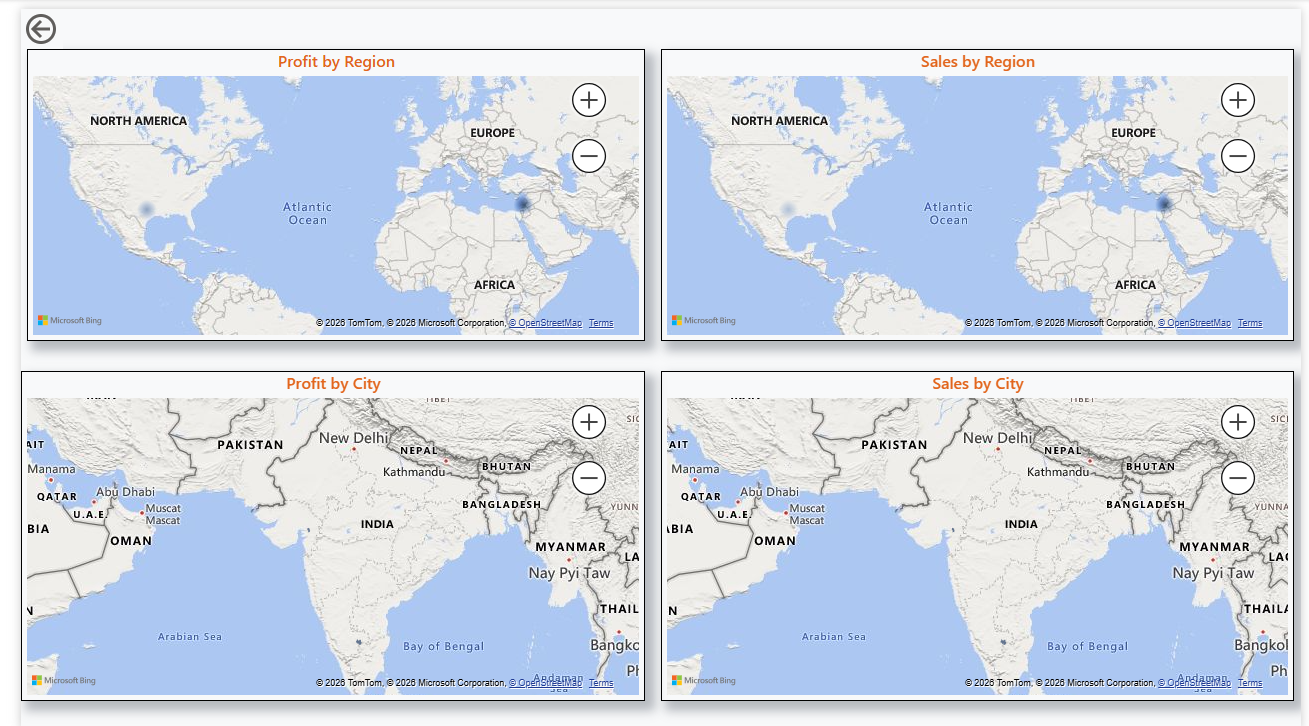

The page's visual inventory and layout, read from the dashboard file:
{"tool":"powerbi","page":{"name":"Geographic Analysis","canvas":[1280,720],"ordinal":6},"visuals":[{"type":"map","title":"Profit by Region","fields":{"Category":["ShopEase.Region"],"Size":["All Measures.Total Profit"]},"box":[6.2,39.9,618,291.7],"z":0},{"type":"map","title":"Sales by Region","fields":{"Category":["ShopEase.Region"],"Size":["All Measures.Total Sales"]},"box":[640.2,39.9,633.1,291.7],"z":1000},{"type":"actionButton","box":[0,0,41.7,39.9],"z":2000},{"type":"filledMap","title":"Profit by City","fields":{"Category":["ShopEase.City"]},"box":[0,361.8,624.2,329.9],"z":3000},{"type":"filledMap","title":"Sales by City","fields":{"Category":["ShopEase.City"]},"box":[640.2,361.8,633.1,329.9],"z":4000}]}

Visuals, with their boxes in screenshot pixels (x1, y1, x2, y2):
"Profit by Region" map: rect(27, 47, 641, 337)
"Sales by Region" map: rect(657, 47, 1287, 337)
actionButton: rect(20, 7, 62, 47)
"Profit by City" filledMap: rect(20, 367, 641, 695)
"Sales by City" filledMap: rect(657, 367, 1287, 695)
